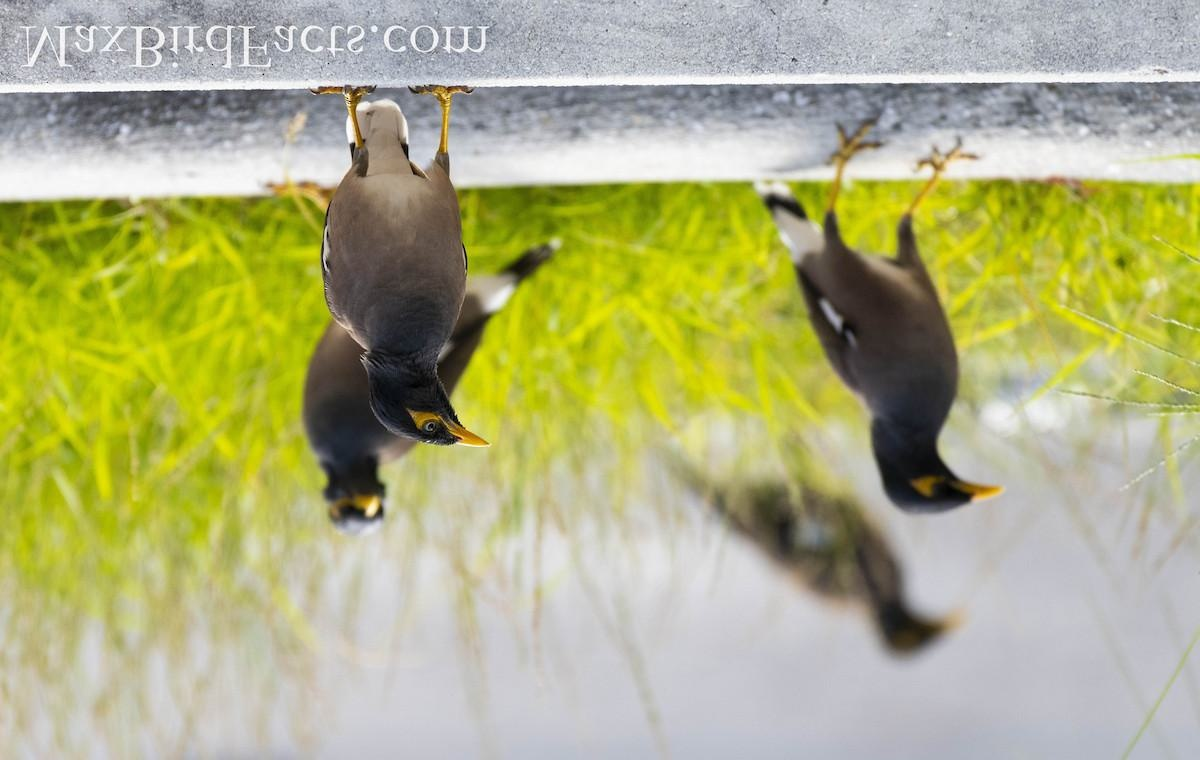myna: (780, 134, 1016, 527), (310, 65, 528, 454)
